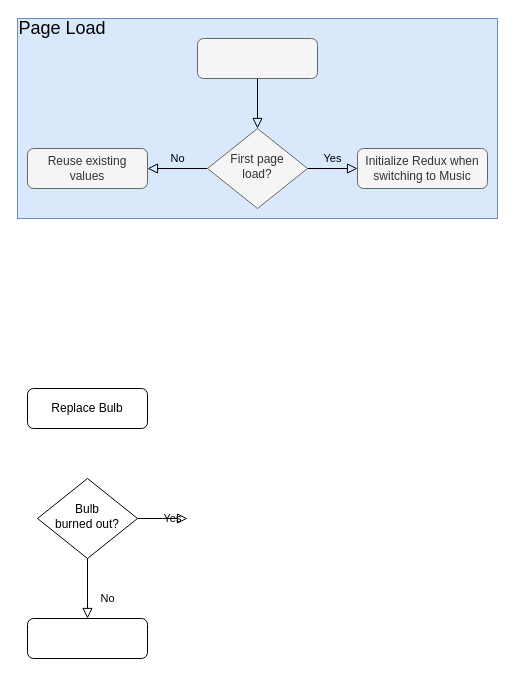
Some shapes in this 515 by 676 pixel diagram are drawn without their labels. The shapes that lost their labels are listed below. From the top down, each one's centre as x and y in pixels, then its label:
At pixel 257 58: "Load Page".
At pixel 87 638: "Repair Lamp".
